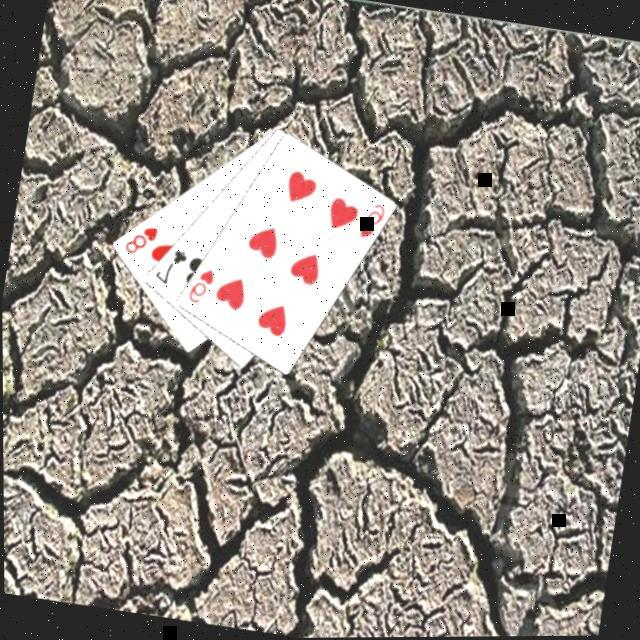6H: (352, 197, 387, 243), (182, 263, 216, 307)
7C: (147, 242, 189, 289)
8H: (118, 219, 159, 260)
